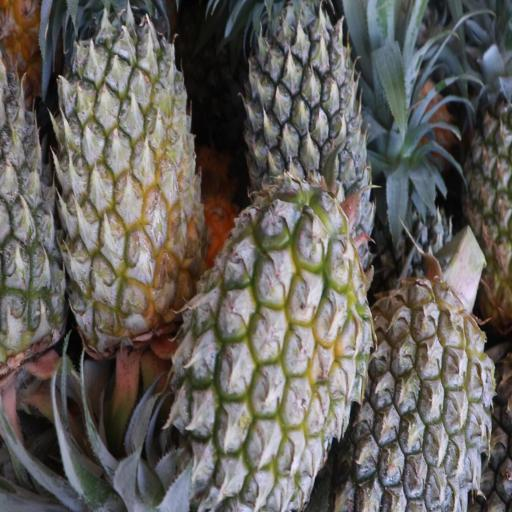------------------------------: (182, 200, 361, 499), (59, 0, 202, 355)
